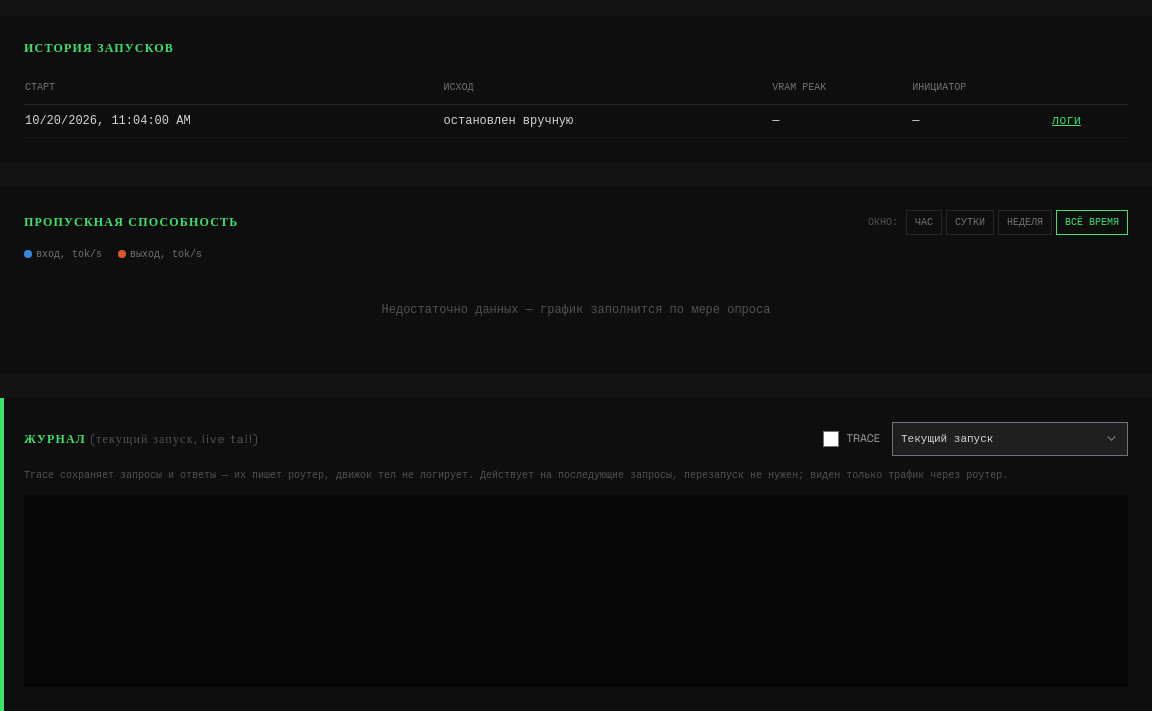
Test case: InferenceDetailPage — сохранённые запросы (trace) › запуск без сохранённых запросов объяснён
(page scrolled)
Select "20.10.2026, 11:04:00 — остановлен" in the dropdown with test id "run-select": coordinates (1010, 438) [892,422,1128,456]
(page scrolled)
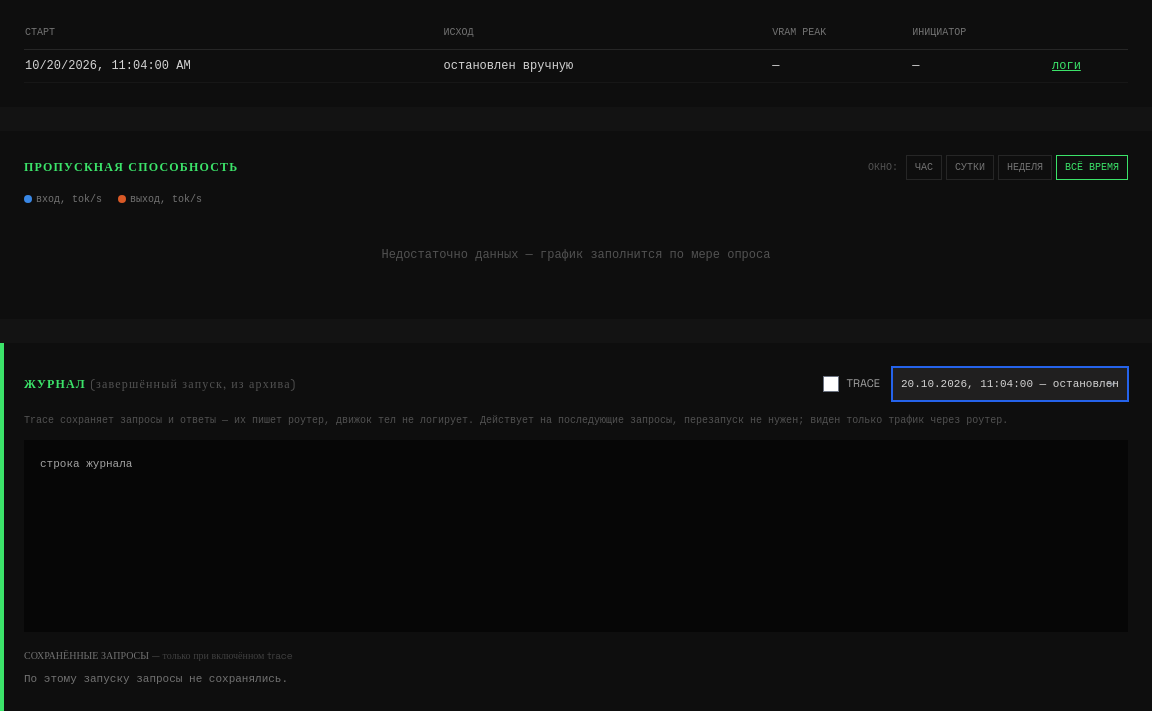
Result: the text "По этому запуску запросы не сохранялись." is shown at [24,672,288,684]
